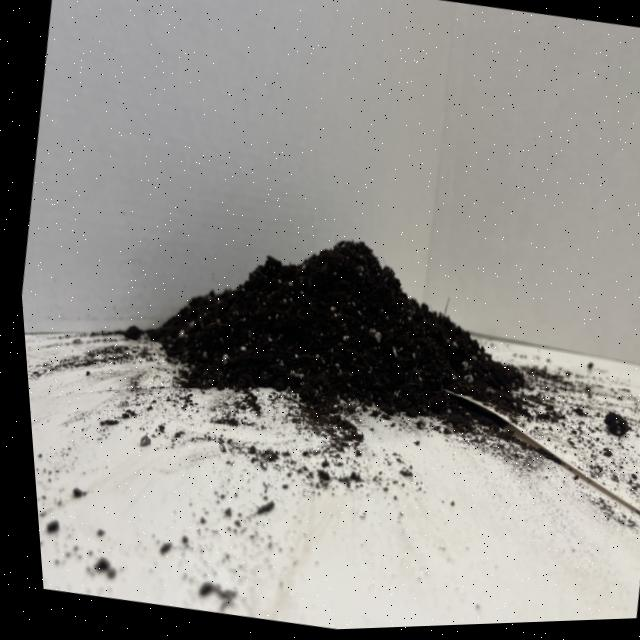soil: (115, 193, 554, 457)
